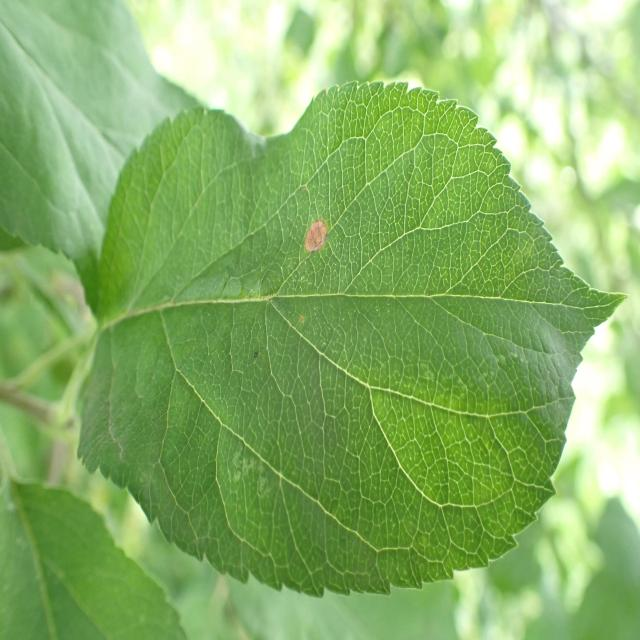Black Rot: (285, 213, 333, 268)
